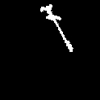double_crochet: (41, 4, 72, 51)
